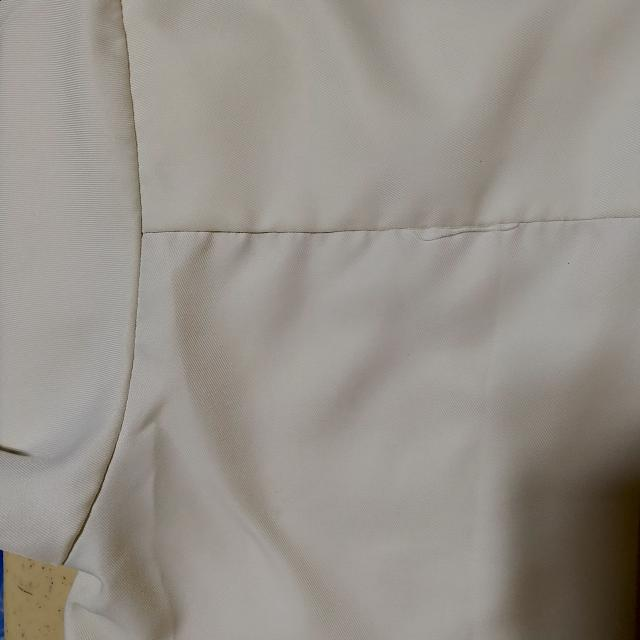education_male_uniform: (137, 230, 640, 634), (132, 0, 634, 231), (2, 26, 182, 565)
